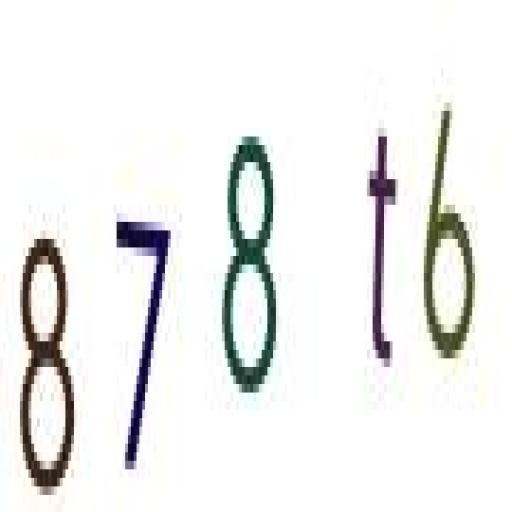6: (418, 98, 480, 372)
7: (110, 198, 176, 484)
8: (217, 120, 281, 402), (14, 222, 78, 500)
t: (365, 120, 400, 382)
